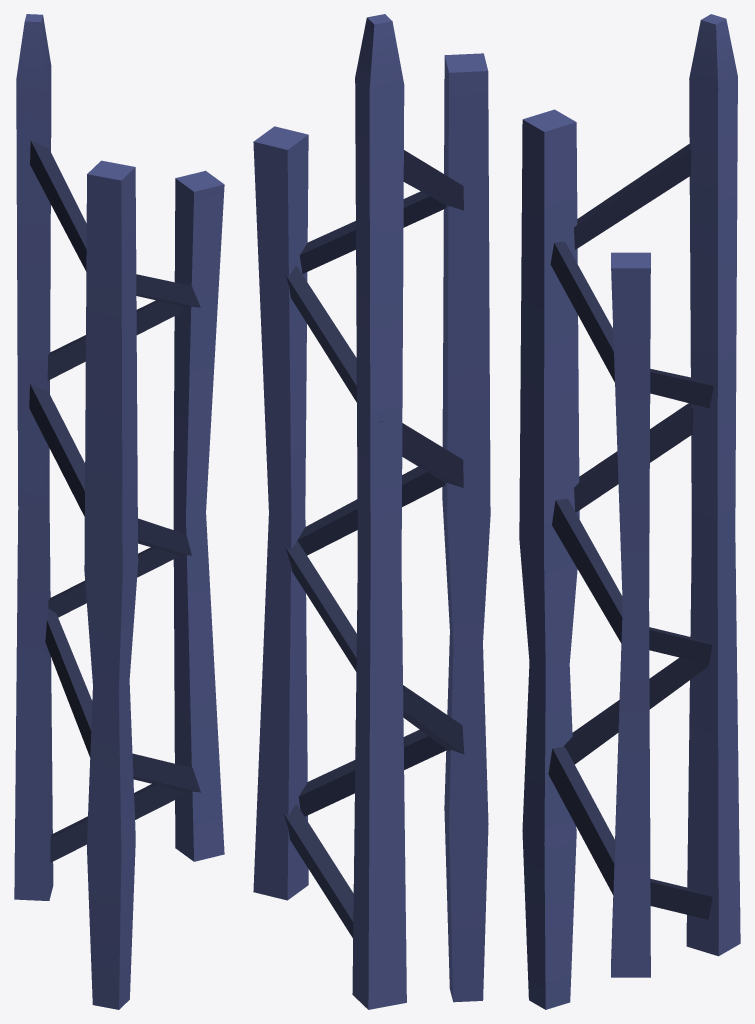
Rendered from Armature2.FBX.
3 renders of one model, left to right at view 1: azimuth 30°, elevation 25°; view 2: azimuth 150°, elevation 25°; view 3: azimuth 270°, elevation 25°, orthographic. The views are drawn at different scales.
Visible parts, largest first — view 1: Arnature2; view 2: Arnature2; view 3: Arnature2.
Boxes of the visible parts, x1,y1,x2,y2 form: Arnature2: (14, 14, 224, 1009); Arnature2: (253, 14, 490, 1009); Arnature2: (519, 14, 740, 1009).
Bounding box in the file's own units: 17.23 × 91.71 × 18.73.
